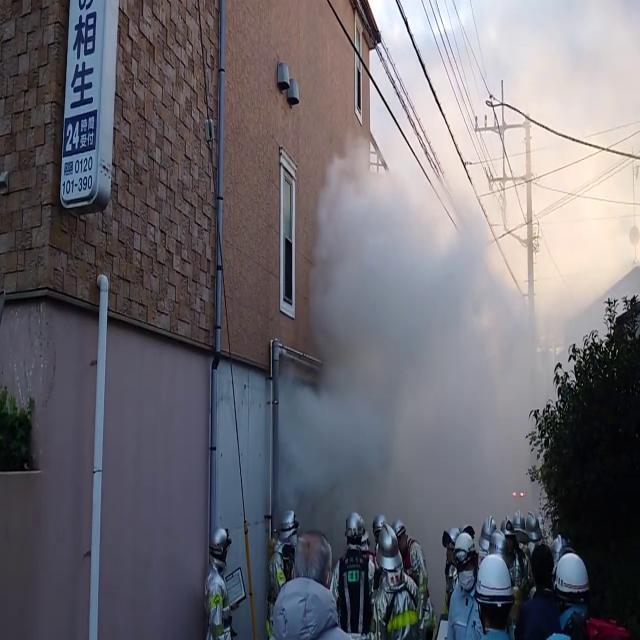Smoke: (279, 58, 561, 529)
